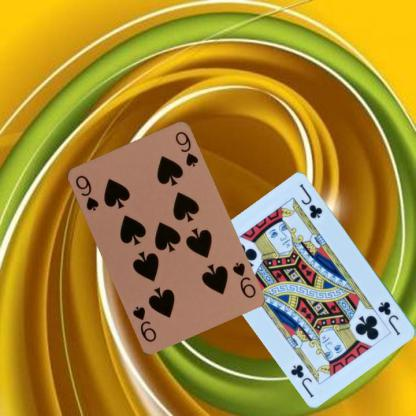9s: (72, 172, 100, 212), (229, 260, 257, 300)
Jc: (376, 299, 402, 337)
